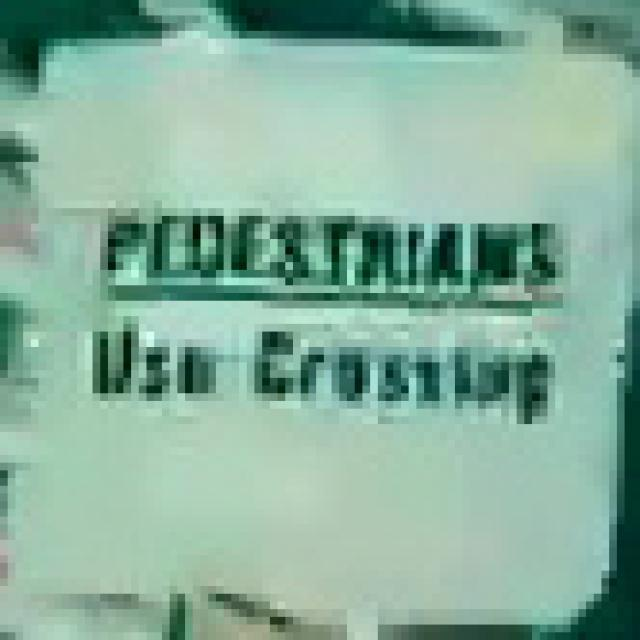pedestriancrossing_sign: (0, 23, 632, 624)
